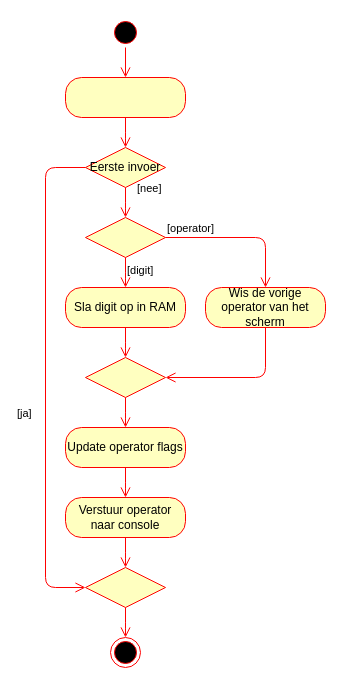
The diagram is 343 pixels wide and 685 high, and some of its shapes have lost their labels. The shapes that lost their labels are listed below. From the top down, each one's box as (x1, y1, x2, y2) in pixels, then its label:
(64, 76, 186, 118): Operator knop wordt ingevoerd
(84, 216, 166, 258): Vorige invoer
